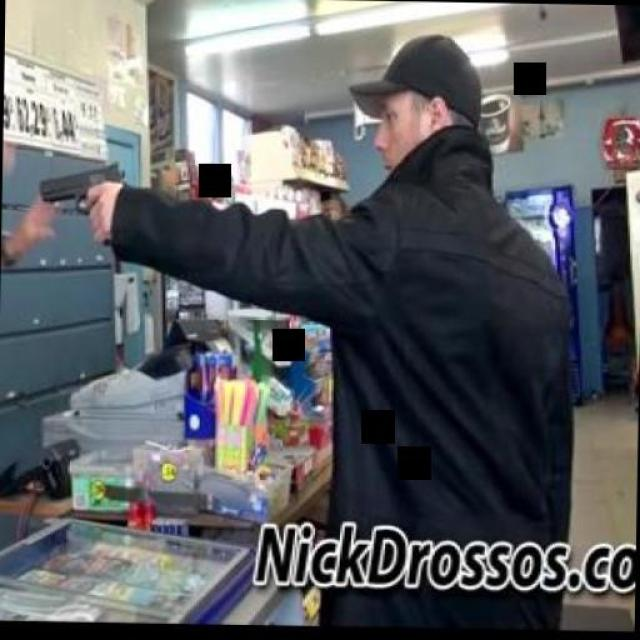gun: (34, 160, 128, 244)
